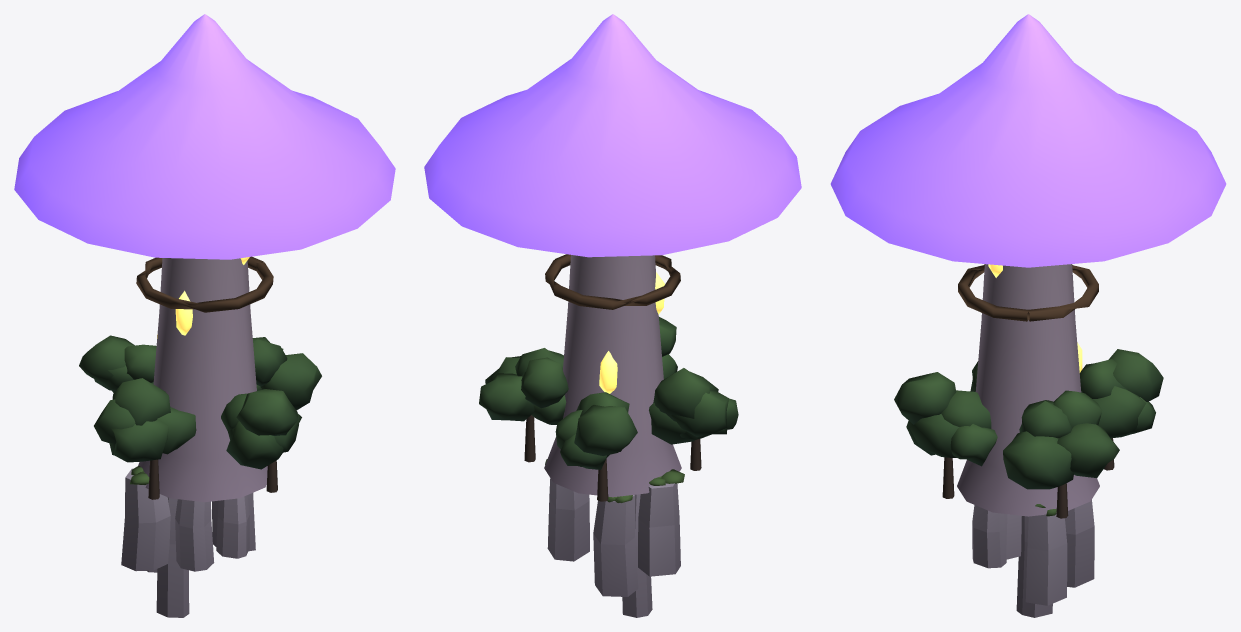
The model's file is spire.glb.
The picture shows the model from 3 angles, left to right: view 1: azimuth 30°, elevation 25°; view 2: azimuth 150°, elevation 25°; view 3: azimuth 270°, elevation 25°; orthographic projection. The views are drawn at different scales.
Parts seen in each view (by area): view 1: hero_valley_spire_cap, hero_valley_tower, hero_valley_leaf, hero_valley_rock, hero_valley_bark; view 2: hero_valley_spire_cap, hero_valley_tower, hero_valley_leaf, hero_valley_rock, hero_valley_bark, valley_hut_glow, hero_valley_moss; view 3: hero_valley_spire_cap, hero_valley_leaf, hero_valley_tower, hero_valley_rock, hero_valley_bark.
Boxes of the visible parts, <box> form: hero_valley_spire_cap: <box>14,14,395,259</box>; hero_valley_tower: <box>138,258,267,502</box>; hero_valley_leaf: <box>79,335,321,469</box>; hero_valley_rock: <box>121,468,255,617</box>; hero_valley_bark: <box>136,256,277,499</box>; hero_valley_spire_cap: <box>424,14,801,257</box>; hero_valley_tower: <box>544,255,681,497</box>; hero_valley_leaf: <box>479,316,738,469</box>; hero_valley_rock: <box>547,478,680,617</box>; hero_valley_bark: <box>524,254,701,501</box>; valley_hut_glow: <box>599,272,664,393</box>; hero_valley_moss: <box>545,459,684,502</box>; hero_valley_spire_cap: <box>830,14,1226,267</box>; hero_valley_leaf: <box>894,349,1163,489</box>; hero_valley_tower: <box>957,264,1099,516</box>; hero_valley_rock: <box>972,499,1094,617</box>; hero_valley_bark: <box>942,264,1114,518</box>.
Bounding box in the file's own units: 18.24 × 31.02 × 18.24.
